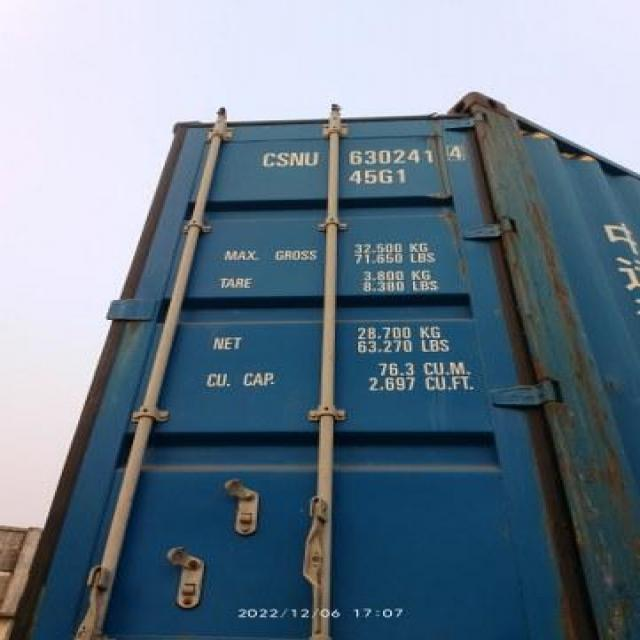ISO: (354, 168, 407, 188)
container_number: (265, 142, 465, 166)
